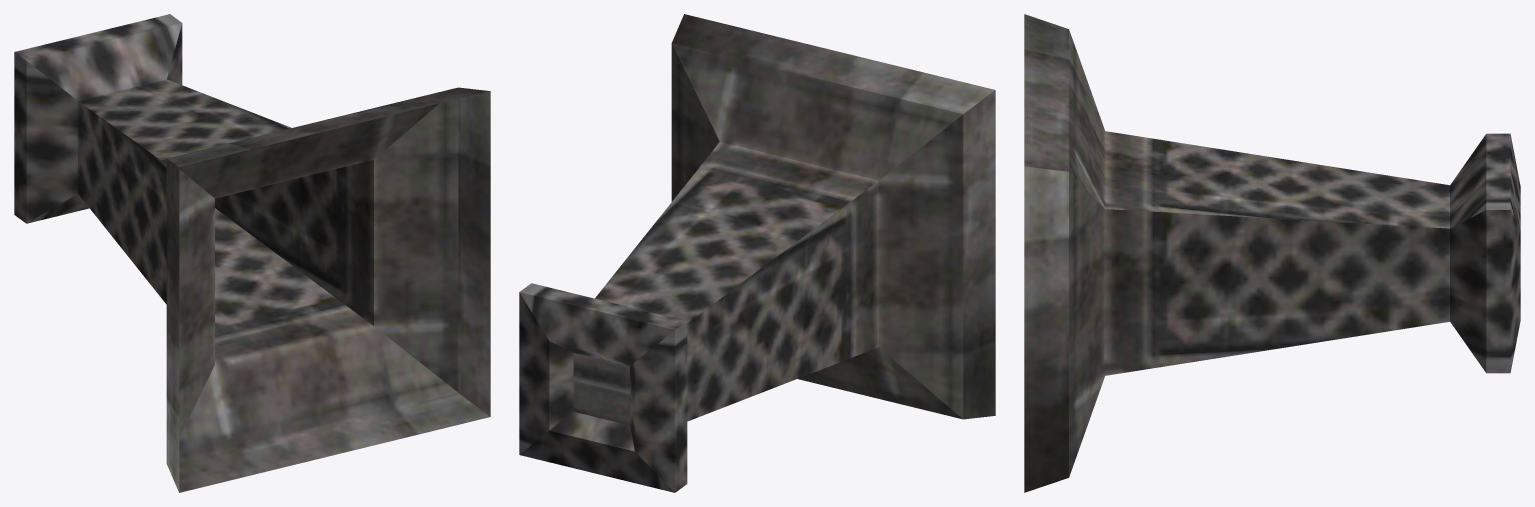
3 renders of one model, left to right at view 1: azimuth 30°, elevation 25°; view 2: azimuth 150°, elevation 25°; view 3: azimuth 270°, elevation 25°, orthographic.
Parts seen in each view (by area): view 1: Object73; view 2: Object73; view 3: Object73.
Part boxes in pixels (<box>): Object73: <box>14,14,490,492</box>; Object73: <box>519,14,995,492</box>; Object73: <box>1024,14,1520,492</box>.
Size of the model in its own units: 14149 by 14149 by 19496.
